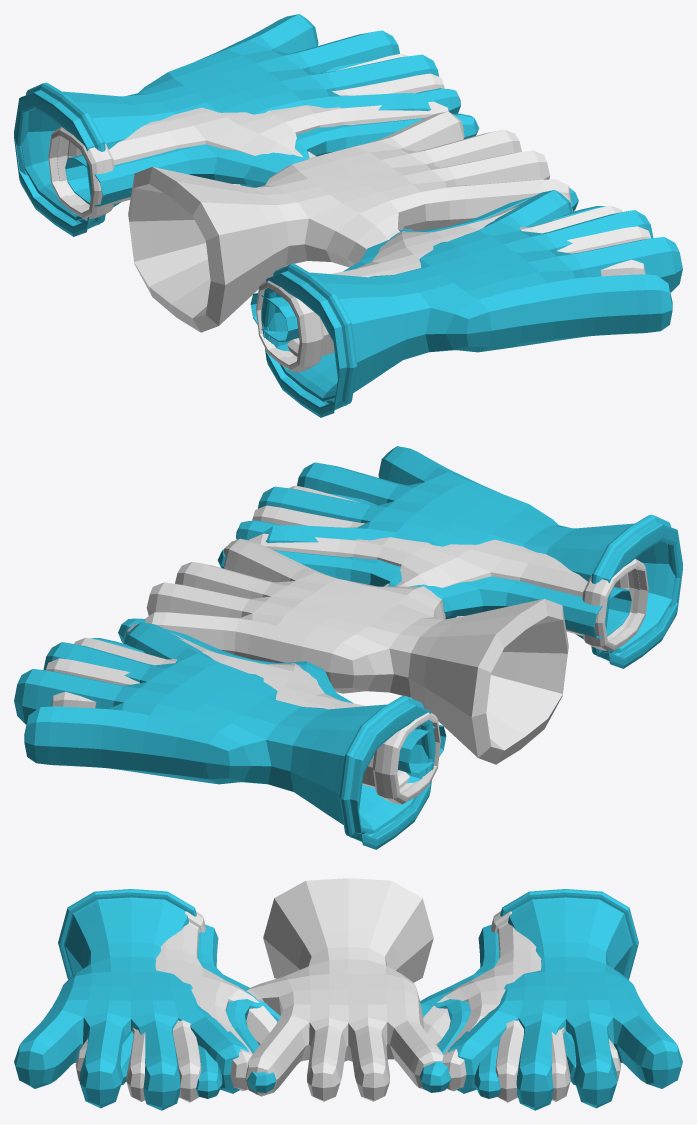
File: Guantes Nitrilo.fbx
3 views of the same model, one above another, from view 1: azimuth 30°, elevation 25°; view 2: azimuth 150°, elevation 25°; view 3: azimuth 270°, elevation 25° (orthographic). The views are drawn at different scales.
Visible parts, largest first — view 1: Guante Cuero, Guante Genérico, Guante Algodón, Guante Nitrilo; view 2: Guante Cuero, Guante Genérico, Guante Algodón, Guante Nitrilo; view 3: Guante Cuero, Guante Genérico, Guante Algodón, Guante Nitrilo.
Boxes of the visible parts, x1,y1,x2,y2 form: Guante Cuero: [14, 14, 682, 417]; Guante Genérico: [128, 111, 571, 332]; Guante Algodón: [48, 53, 650, 372]; Guante Nitrilo: [65, 61, 606, 341]; Guante Cuero: [14, 446, 682, 849]; Guante Genérico: [145, 538, 568, 764]; Guante Algodón: [46, 485, 648, 804]; Guante Nitrilo: [90, 493, 631, 773]; Guante Cuero: [14, 889, 682, 1110]; Guante Genérico: [245, 878, 443, 1101]; Guante Algodón: [75, 911, 621, 1102]; Guante Nitrilo: [120, 924, 576, 1098].
Size of the model in its own units: 24.63 by 8.58 by 43.49.
